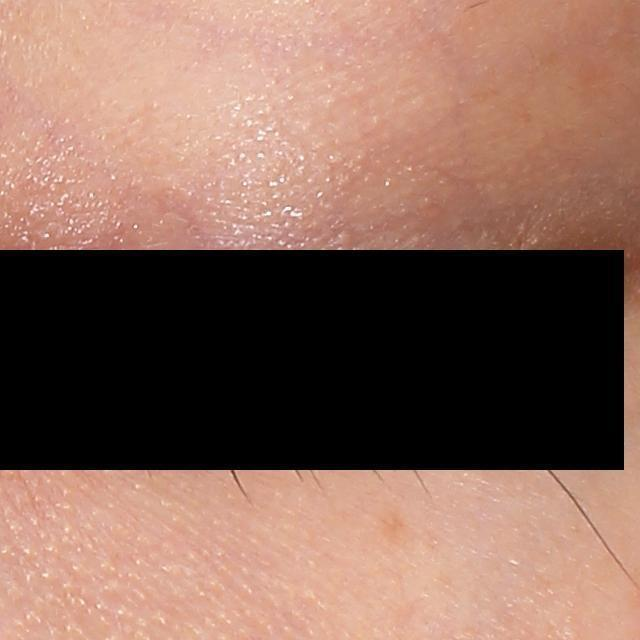melasma: (375, 504, 411, 548)
